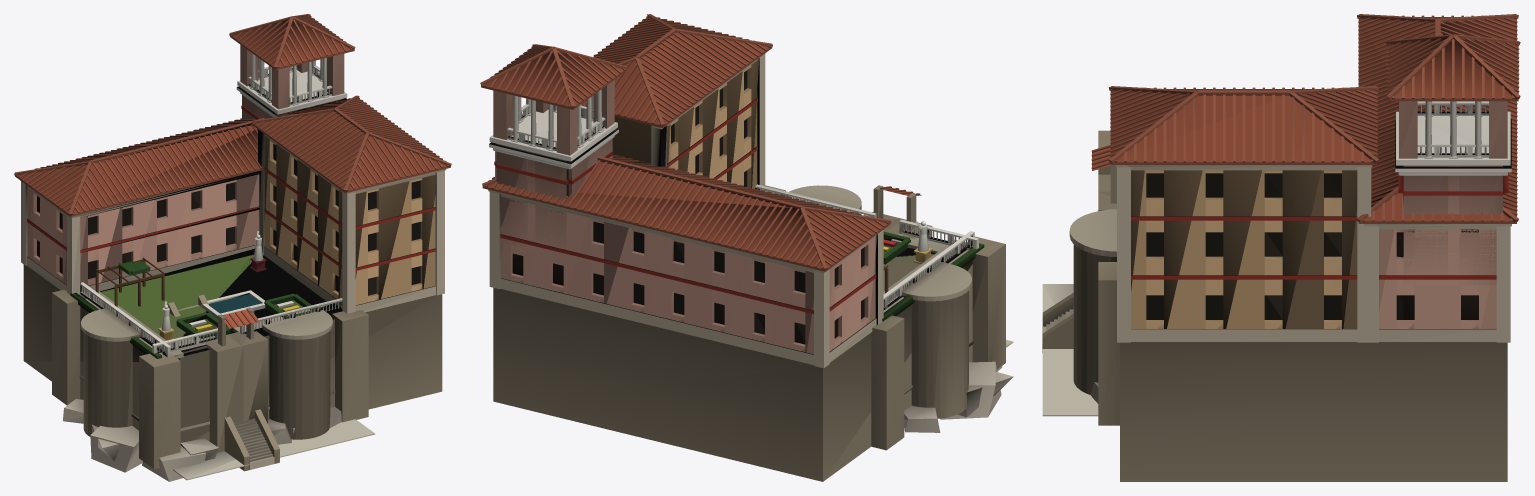
The model's file is rome_pal_block_c.glb.
The picture shows the model from 3 angles, left to right: view 1: azimuth 30°, elevation 25°; view 2: azimuth 150°, elevation 25°; view 3: azimuth 270°, elevation 25°; orthographic projection. The views are drawn at different scales.
Visible parts, largest first — view 1: rome_pal_block_c; view 2: rome_pal_block_c; view 3: rome_pal_block_c.
Part boxes in pixels (left/top/right/bottom): rome_pal_block_c: left=14, top=14, right=451, bottom=481; rome_pal_block_c: left=480, top=14, right=1013, bottom=481; rome_pal_block_c: left=1042, top=14, right=1520, bottom=481.
Bounding box in the file's own units: 35.35 × 31.42 × 30.85.
